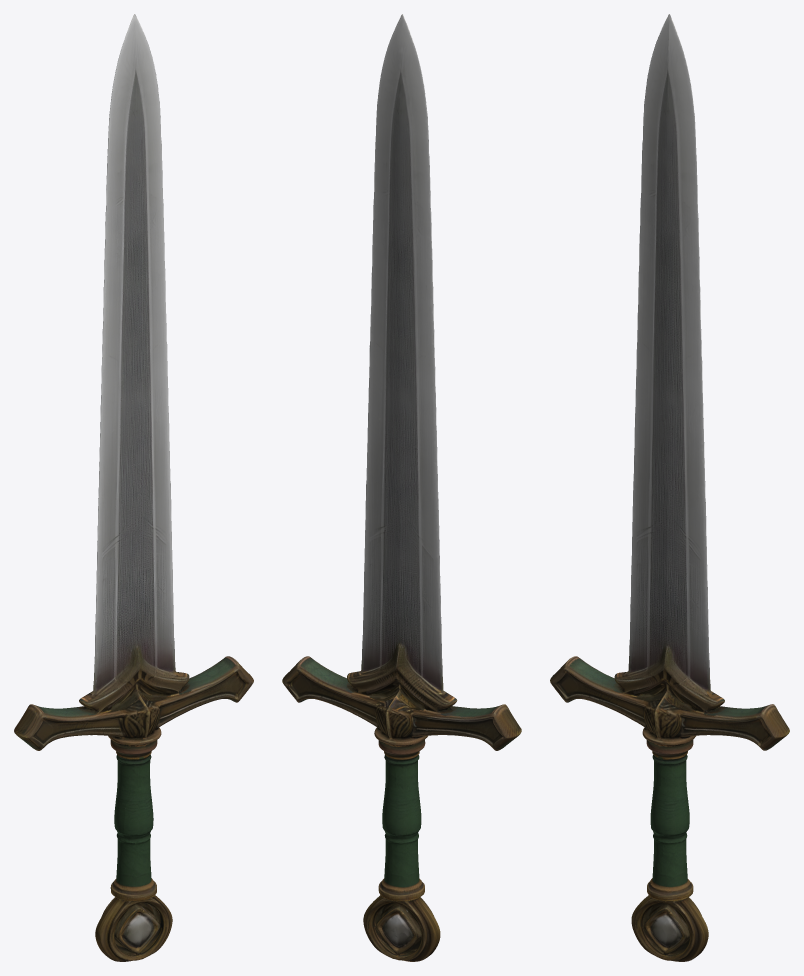
The model's file is Sword2.glb.
The picture shows the model from 3 angles, left to right: view 1: azimuth 30°, elevation 25°; view 2: azimuth 150°, elevation 25°; view 3: azimuth 330°, elevation 25°; orthographic projection.
Parts seen in each view (by area): view 1: mesh_node; view 2: mesh_node; view 3: mesh_node.
Part boxes in pixels (x1,y1,x2,y2): mesh_node: (14, 14, 253, 961); mesh_node: (282, 14, 521, 961); mesh_node: (550, 14, 789, 961).
Size of the model in its own units: 0.4936 by 1.9 by 0.1105.
Materials: 1 (1 with a texture image).
